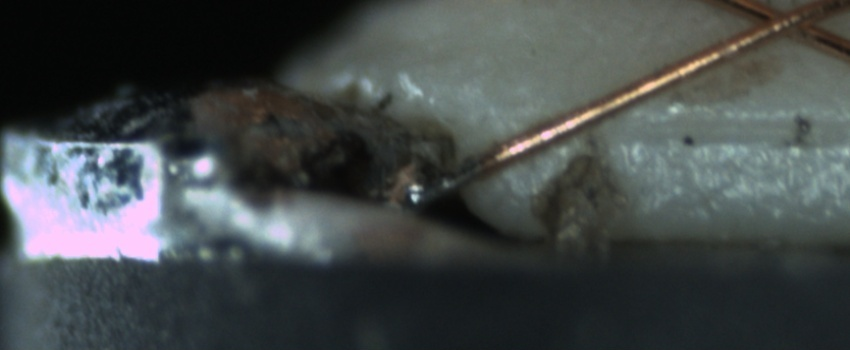CL: (726, 1, 834, 46)
DL: (614, 90, 843, 165)
TS: (412, 158, 484, 207)
